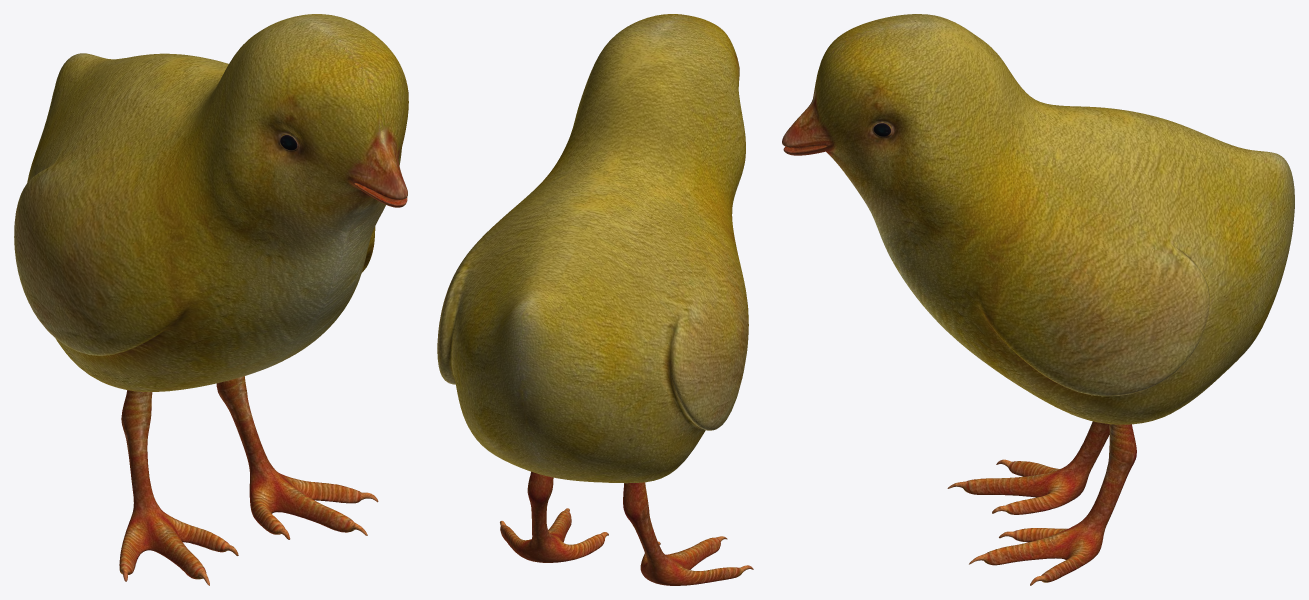
File: Chick.obj
3 renders of one model, left to right at view 1: azimuth 30°, elevation 25°; view 2: azimuth 150°, elevation 25°; view 3: azimuth 270°, elevation 25°, orthographic. The views are drawn at different scales.
Size of the model in its own units: 0.574 by 1 by 0.9136.
1 material, 1 textured.
